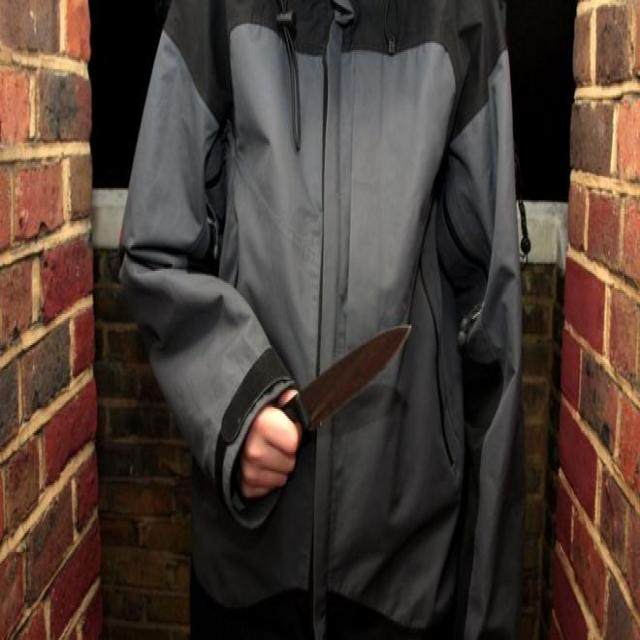knife: (290, 314, 418, 447)
